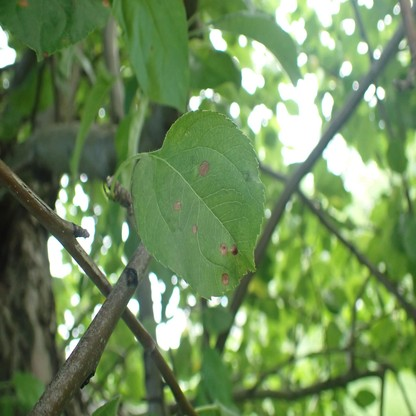frogeye: (198, 161, 210, 176), (173, 200, 182, 212), (220, 242, 227, 256), (221, 273, 229, 285), (231, 244, 238, 256), (192, 224, 198, 234)
